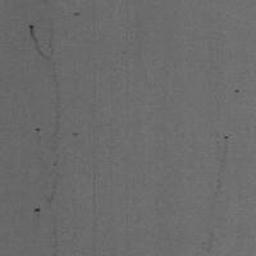Inclusion: (27, 23, 63, 256), (202, 134, 230, 256), (234, 87, 241, 95), (70, 132, 81, 137)
